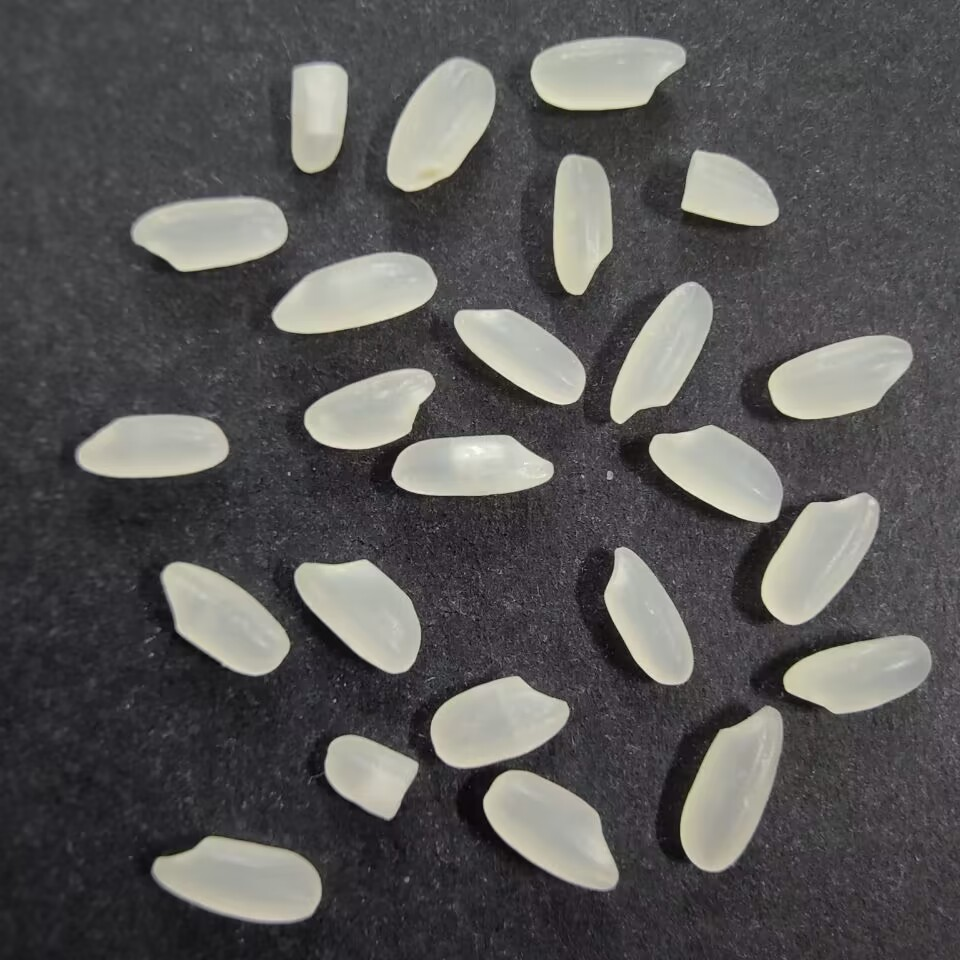broken: (323, 733, 423, 824), (676, 144, 780, 227), (287, 59, 348, 178)
rice: (677, 701, 784, 873), (479, 768, 621, 895), (146, 829, 321, 930), (756, 488, 883, 627), (288, 554, 423, 677), (156, 557, 291, 678), (266, 247, 440, 337), (385, 55, 496, 194), (607, 281, 714, 424), (450, 303, 588, 407), (647, 422, 784, 526), (600, 542, 696, 688), (764, 332, 916, 422), (430, 675, 572, 770), (779, 632, 933, 718), (125, 194, 290, 273), (528, 33, 688, 112), (302, 364, 437, 452), (70, 409, 234, 480), (386, 433, 556, 499), (551, 150, 617, 297)
